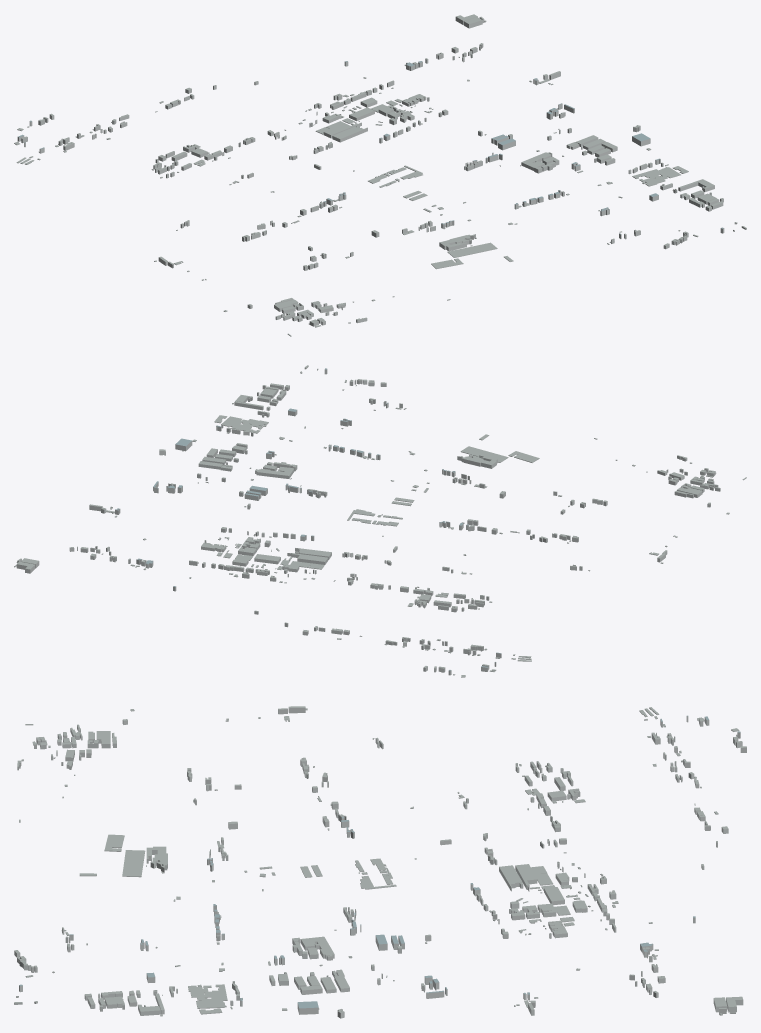
The model's file is far.glb.
3 renders of one model, top to bottom at view 1: azimuth 30°, elevation 25°; view 2: azimuth 150°, elevation 25°; view 3: azimuth 270°, elevation 25°, orthographic. The views are drawn at different scales.
Bounding box in the file's own units: 2117 × 22.65 × 2110.
